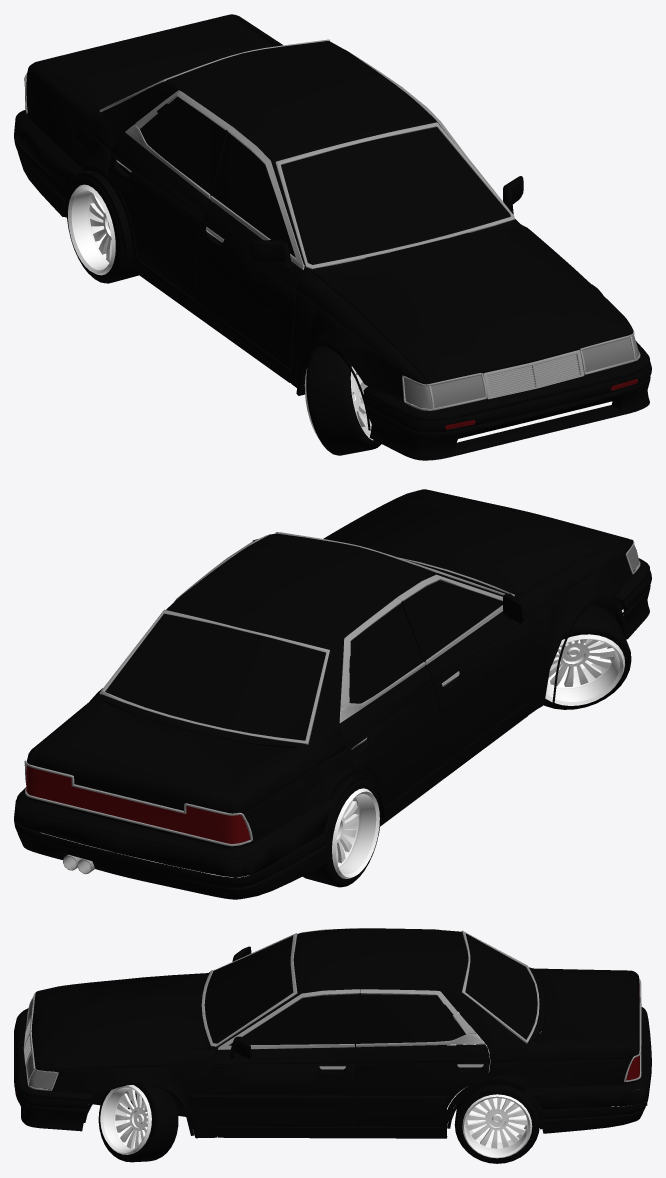
Rendered from laurel_lo.glb.
The picture shows the model from 3 angles, top to bottom: view 1: azimuth 30°, elevation 25°; view 2: azimuth 150°, elevation 25°; view 3: azimuth 270°, elevation 25°; orthographic projection. The views are drawn at different scales.
Visible parts, largest first — view 1: Plane.002_Body_0, Plane.001_Body_0, Plane.013_Glass_0, Plane.003_Body_0, Plane.007_Body_0, Plane.004_Body_0, Cube.001_Plastic_0, Cylinder.010_Plastic_0, Plane.016_Glass_0, Plane_Body_0, Plane.015_Glass_0, Plane.006_Body_0 (+19 smaller); view 2: Plane.001_Body_0, Plane.014_Glass_0, Plane.002_Body_0, Plane.007_Body_0, Cube.002_Plastic_0, Plane.003_Body_0, Plane.004_Body_0, Cube.009_Plastic_0, Cube.005_backlights_0, Plane_Body_0, Plane.016_Glass_0, Cylinder.011__0_1 (+14 smaller); view 3: Plane.001_Body_0, Plane.002_Body_0, Plane.003_Body_0, Plane.004_Body_0, Plane.007_Body_0, Plane.013_Glass_0, Plane_Body_0, Plane.016_Glass_0, Plane.014_Glass_0, Plane.015_Glass_0, Cube.002_Plastic_0, Plane.005_Body_0 (+18 smaller).
Boxes of the visible parts, x1,y1,x2,y2 form: Plane.002_Body_0: [312, 220, 630, 383]; Plane.001_Body_0: [26, 14, 453, 265]; Plane.013_Glass_0: [281, 128, 510, 264]; Plane.003_Body_0: [196, 200, 519, 368]; Plane.007_Body_0: [36, 14, 275, 107]; Plane.004_Body_0: [107, 103, 211, 300]; Cube.001_Plastic_0: [365, 376, 650, 460]; Cylinder.010_Plastic_0: [306, 346, 381, 455]; Plane.016_Glass_0: [140, 96, 225, 193]; Plane_Body_0: [290, 290, 427, 410]; Plane.015_Glass_0: [212, 132, 295, 257]; Plane.006_Body_0: [297, 219, 633, 384]; Plane.001_Body_0: [27, 533, 503, 843]; Plane.014_Glass_0: [105, 613, 325, 740]; Plane.002_Body_0: [326, 489, 629, 597]; Plane.007_Body_0: [33, 701, 294, 812]; Cube.002_Plastic_0: [14, 787, 336, 899]; Plane.003_Body_0: [425, 611, 533, 767]; Plane.004_Body_0: [339, 656, 440, 806]; Cube.009_Plastic_0: [14, 800, 329, 877]; Cube.005_backlights_0: [26, 765, 250, 843]; Plane_Body_0: [527, 542, 635, 714]; Plane.016_Glass_0: [349, 603, 423, 703]; Cylinder.011__0_1: [545, 634, 624, 705]; Plane.001_Body_0: [218, 928, 639, 1088]; Plane.002_Body_0: [31, 972, 210, 1067]; Plane.003_Body_0: [211, 990, 355, 1126]; Plane.004_Body_0: [354, 1005, 489, 1126]; Plane.007_Body_0: [534, 970, 639, 1049]; Plane.013_Glass_0: [204, 936, 292, 1043]; Plane_Body_0: [37, 1057, 217, 1138]; Plane.016_Glass_0: [356, 994, 465, 1043]; Plane.014_Glass_0: [465, 933, 537, 1039]; Plane.015_Glass_0: [230, 994, 359, 1044]; Cube.002_Plastic_0: [524, 999, 651, 1133]; Plane.005_Body_0: [216, 1003, 639, 1138].
Bounding box in the file's own units: 2.08 × 1.31 × 4.69.
